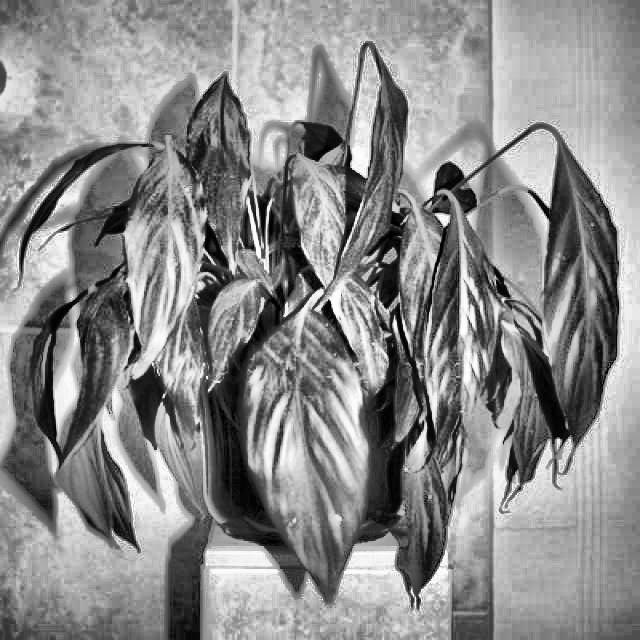plants: (17, 79, 639, 617)
